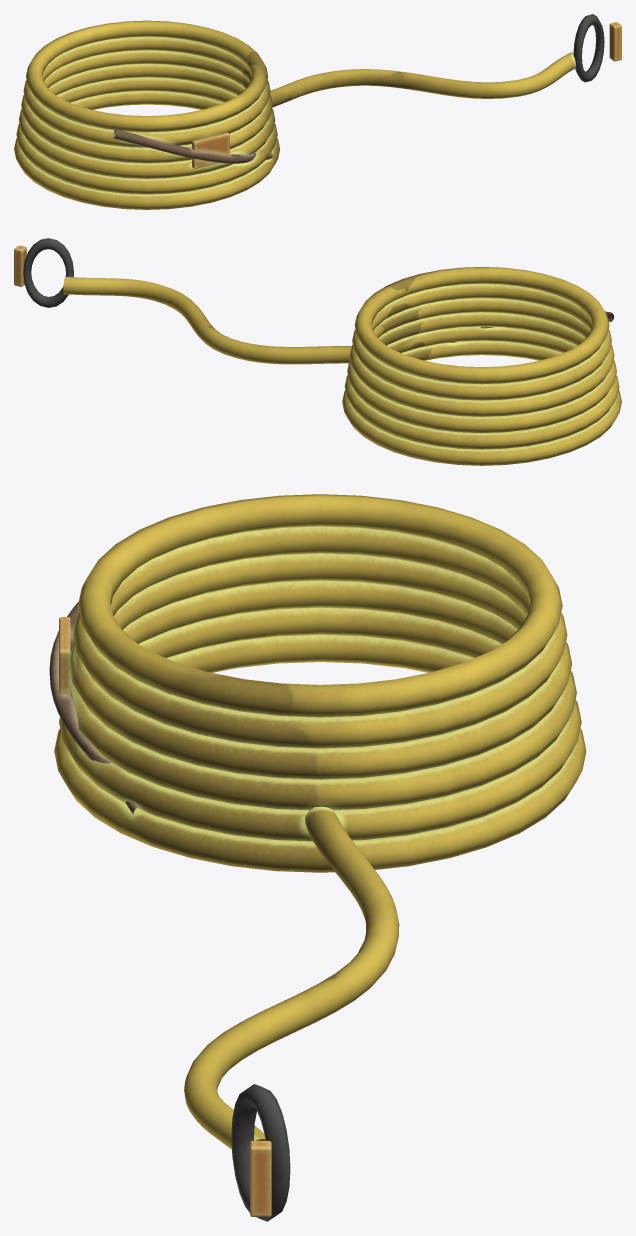
Rendered from airlock_tether_coil.glb.
The picture shows the model from 3 angles, top to bottom: view 1: azimuth 30°, elevation 25°; view 2: azimuth 150°, elevation 25°; view 3: azimuth 270°, elevation 25°; orthographic projection. The views are drawn at different scales.
Parts seen in each view (by area): view 1: TetherCoil; view 2: TetherCoil; view 3: TetherCoil.
Part boxes in pixels (x1,y1,x2,y2): TetherCoil: [14, 14, 621, 209]; TetherCoil: [14, 238, 621, 465]; TetherCoil: [49, 494, 586, 1221].
Size of the model in its own units: 1.11 by 0.1964 by 0.4519.
4 materials, 4 textured.
